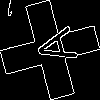A: (25, 25, 78, 70)
